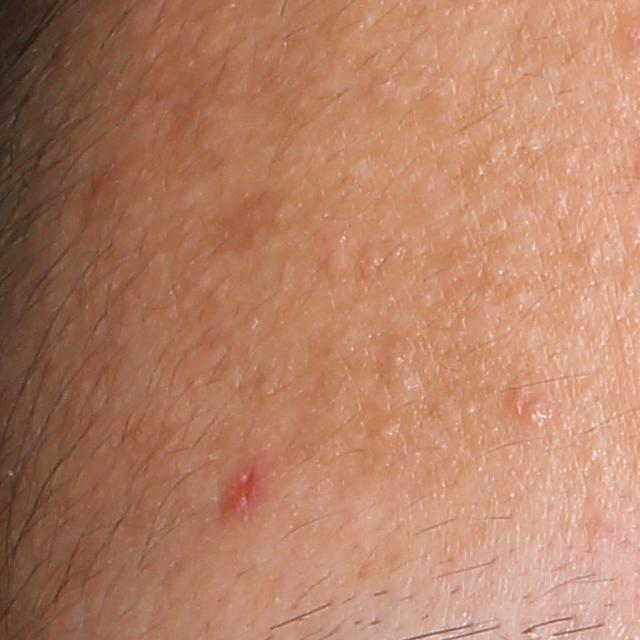comedo: (379, 336, 417, 377), (322, 249, 353, 287), (259, 375, 280, 400)
papule: (516, 391, 554, 433)
